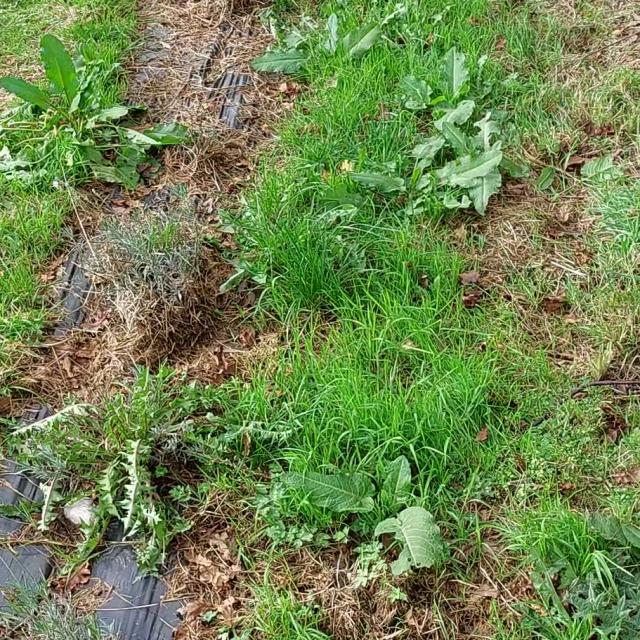organic waste: (6, 34, 201, 185), (279, 444, 479, 570), (368, 135, 526, 228), (250, 0, 412, 84), (424, 29, 505, 133)
